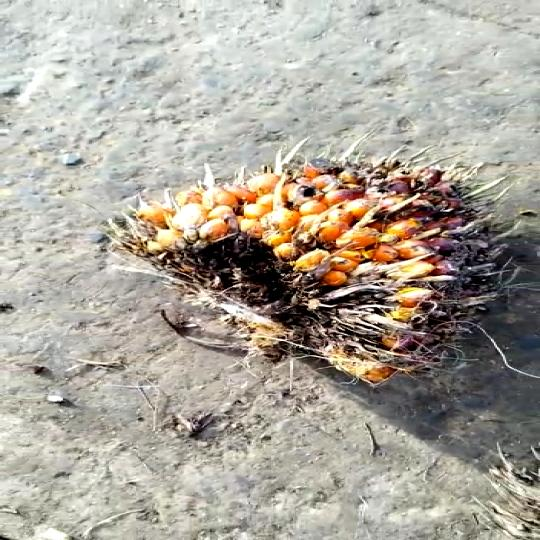masak: (90, 141, 540, 418)
